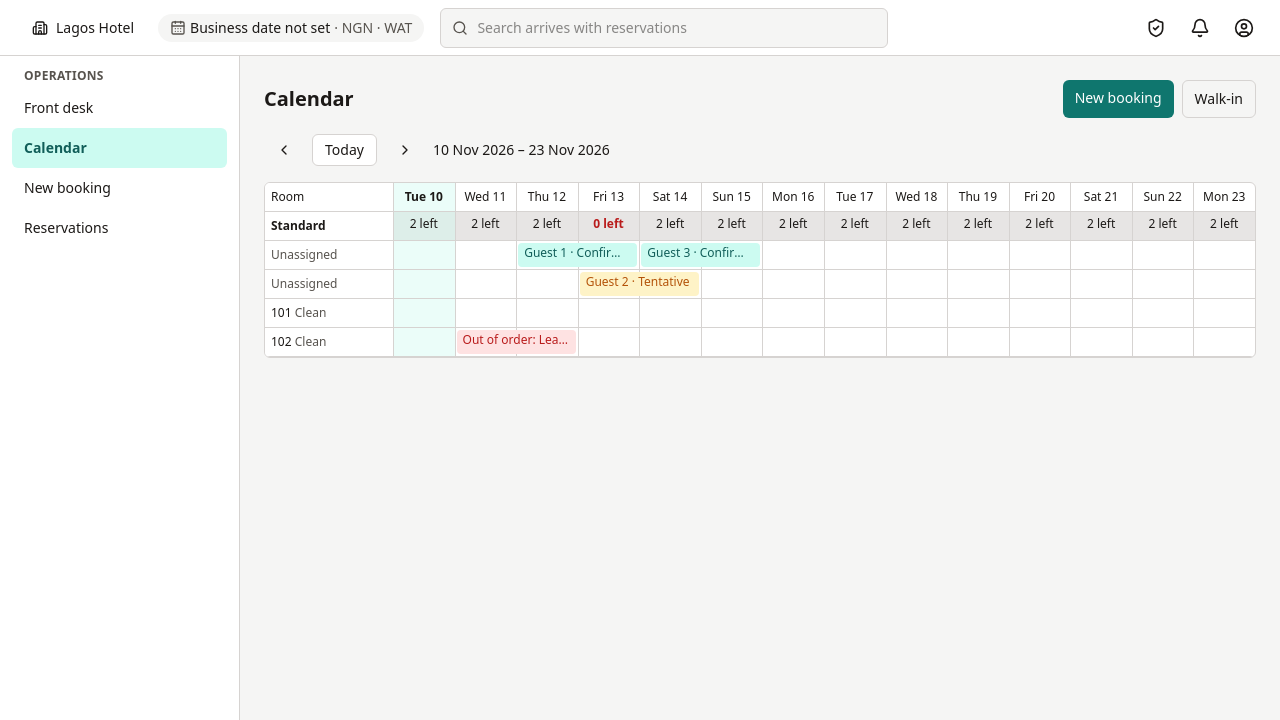
Test: Calendar (S07) › moves a week at a time
Expected: the table named "Reservation calendar" is shown, x1=264 y1=182 x2=1256 y2=358
What coordinates should you click on to do the following:
click the button named "Later dates"
I would click on:
 (405, 150)
Its box is x1=385 y1=130 x2=425 y2=170.
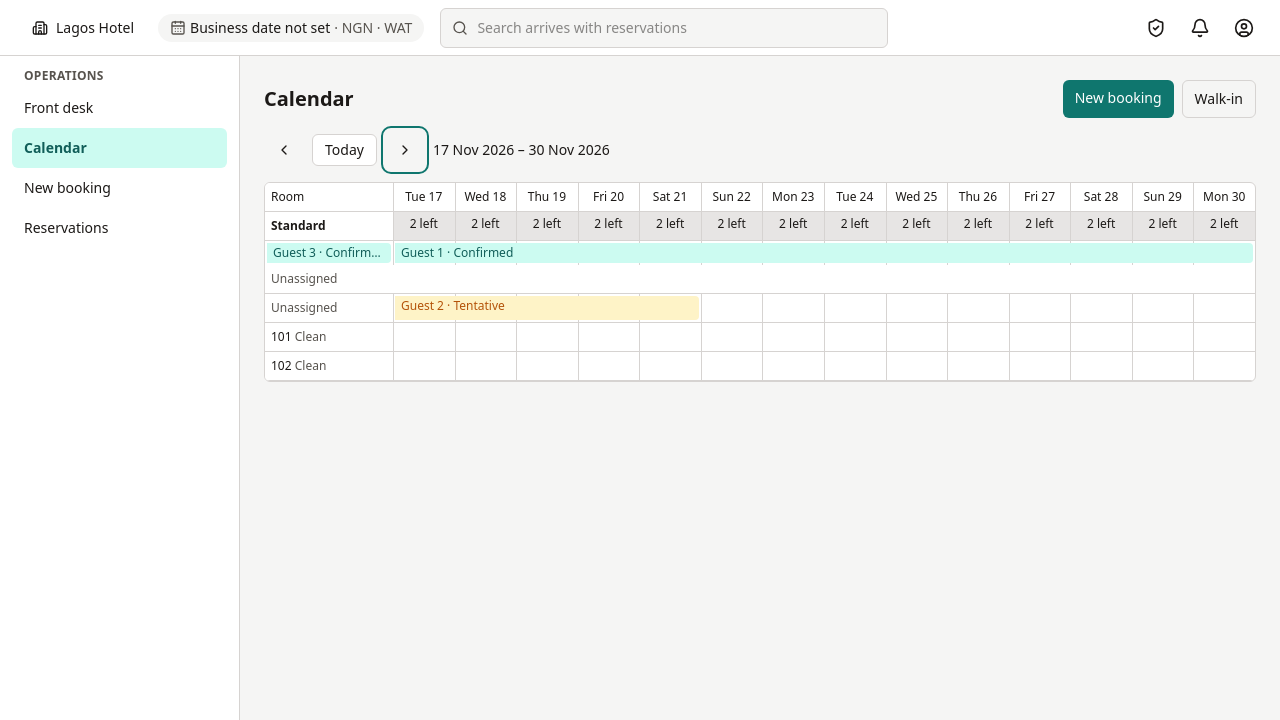
Expected: the text "17 Nov 2026 – 30 Nov 2026" is shown, x1=433 y1=140 x2=610 y2=160
What coordinates should you click on to do the following:
click the button "Today"
I would click on:
 (344, 150)
Its box is x1=312 y1=134 x2=377 y2=166.
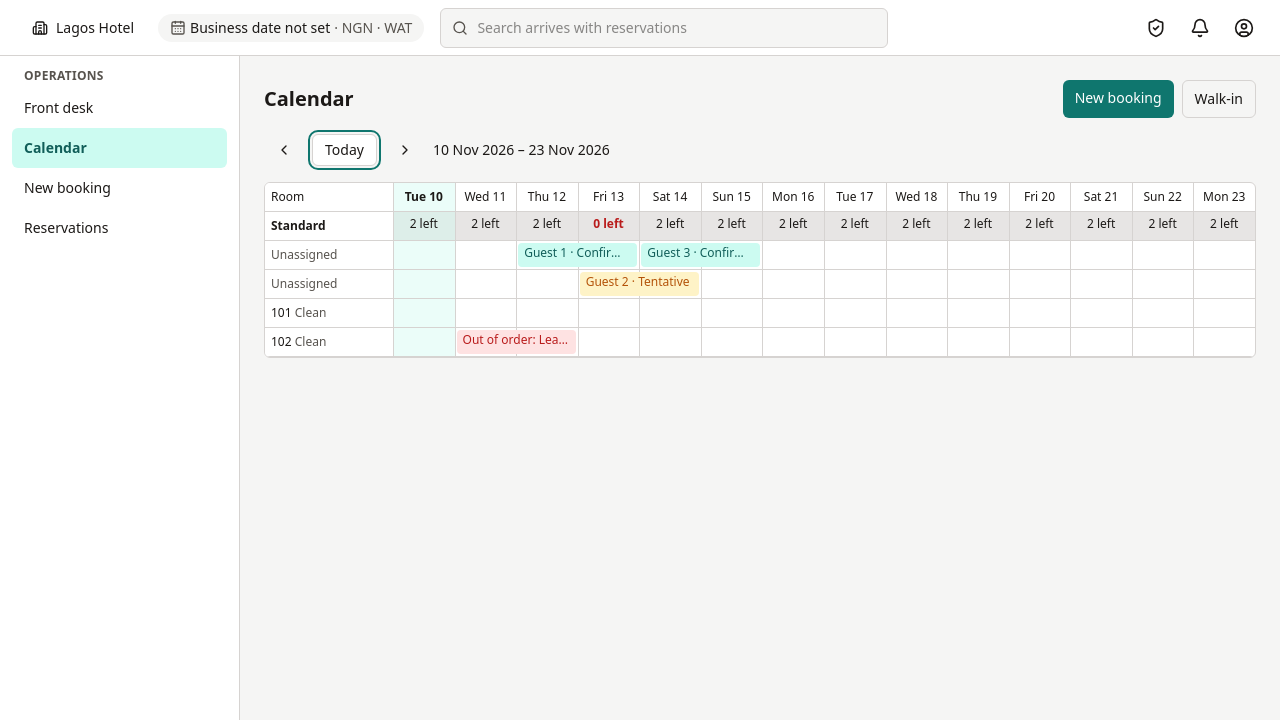
Expected: the text "10 Nov 2026 – 23 Nov 2026" is shown, x1=433 y1=140 x2=610 y2=160
